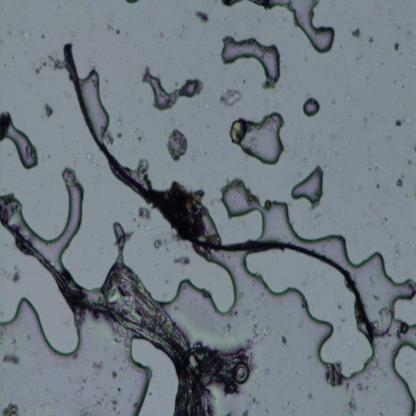Air bubble: (242, 249, 376, 380), (218, 176, 347, 244), (151, 244, 241, 319), (0, 289, 81, 360), (41, 168, 87, 258), (126, 336, 177, 415), (267, 0, 337, 56), (222, 36, 280, 88), (141, 67, 198, 115), (240, 112, 285, 169), (389, 340, 416, 416), (80, 69, 110, 133), (292, 165, 326, 211), (8, 126, 39, 172), (388, 289, 416, 329), (110, 221, 127, 267), (303, 97, 320, 119)
Background material: (161, 180, 209, 242), (354, 365, 389, 392), (165, 128, 188, 163), (246, 322, 274, 350), (373, 307, 396, 339), (32, 54, 65, 74), (132, 155, 152, 188), (109, 324, 132, 351), (219, 84, 243, 107), (324, 361, 344, 388), (93, 391, 118, 412), (230, 118, 246, 144), (365, 148, 379, 174), (87, 150, 102, 171), (0, 110, 10, 139), (90, 360, 106, 378), (343, 394, 356, 416), (41, 101, 56, 120), (100, 128, 115, 146), (194, 9, 212, 24), (245, 393, 260, 411), (0, 402, 19, 416), (172, 253, 190, 267), (134, 126, 146, 145), (138, 206, 154, 220), (243, 309, 260, 321), (20, 29, 32, 46), (115, 114, 123, 139), (106, 23, 121, 36), (360, 115, 370, 134), (404, 148, 414, 167), (3, 355, 20, 365), (392, 244, 402, 260), (202, 97, 210, 117), (228, 308, 241, 320), (155, 238, 167, 251), (9, 268, 20, 282), (285, 144, 297, 156), (327, 131, 338, 144), (223, 322, 233, 334), (350, 27, 360, 39), (366, 34, 375, 47), (357, 177, 364, 193), (109, 368, 118, 380), (306, 390, 314, 402), (344, 95, 352, 106), (115, 384, 122, 396), (127, 0, 140, 6), (395, 178, 404, 186), (70, 28, 79, 36), (394, 118, 402, 127), (281, 336, 288, 346), (394, 42, 400, 52), (374, 180, 380, 188), (302, 157, 307, 165)
Cellulose filter fibre: (0, 220, 207, 414), (181, 337, 242, 393)
Cotton: (63, 40, 375, 337)
Diatom: (235, 364, 249, 384), (398, 323, 410, 334)
